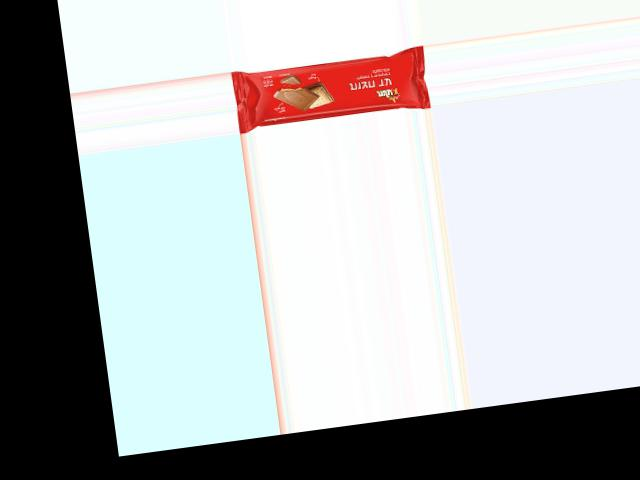chocolate: (233, 45, 426, 133)
